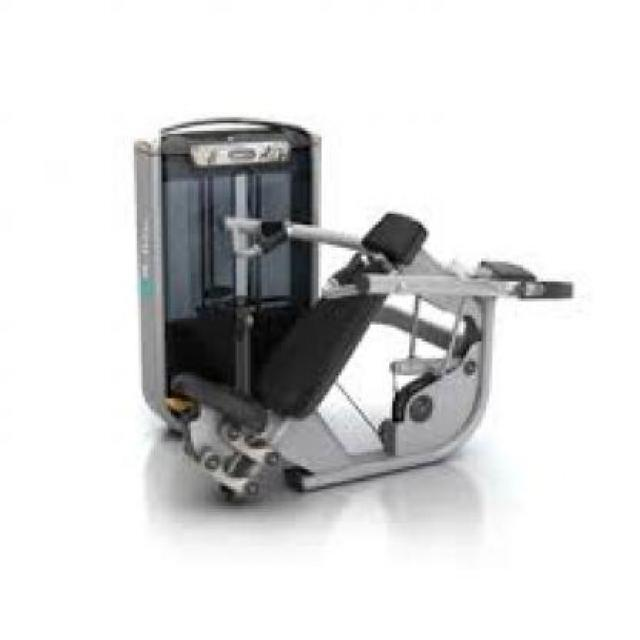shoulder press machine: (117, 103, 580, 514)
